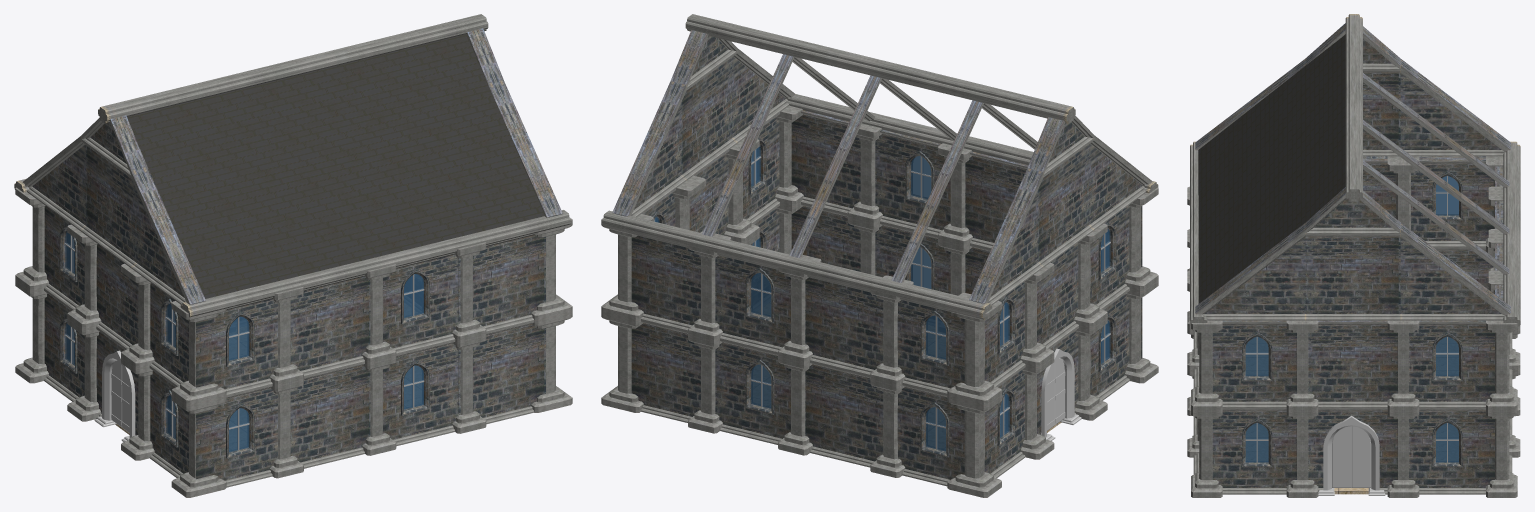
3 views of the same model, side by side, from view 1: azimuth 30°, elevation 25°; view 2: azimuth 150°, elevation 25°; view 3: azimuth 270°, elevation 25° (orthographic). The views are drawn at different scales.
Parts seen in each view (by area): view 1: Roof_Tile_(2), Wall_(2), Wall_(6), Rock_Moulding_(3), Wall_(4), Window_(5), Wall_(8), Window_(6), Window_(13), Rock_Moulding_(1), Window_(14), Roof_Triangle_Side_(2) (+33 smaller); view 2: Rock_Moulding_(3), Wall_(1), Rock_Moulding_(2), Wall_(5), Wall_(3), Window_(3), Wall_(7), Window_(11), Window_(14), Wall_(8), Window_(4), Roof_Triangle_Side_(1) (+58 smaller); view 3: Roof_Tile_(2), Wall_(12), Wall_(10), Window_(16), Window_(15), Window_(8), Window_(7), Roof_Triangle_Side_(3), Roof_Triangle_Side_(4), Roof_Triangle_Side_(1), Window_(9), Doorway.003 (+31 smaller).
Part boxes in pixels (box(x1,y1,x2,y2)): Roof_Tile_(2): box(127, 34, 544, 298); Wall_(2): box(290, 362, 370, 468); Wall_(6): box(290, 276, 370, 377); Rock_Moulding_(3): box(98, 14, 488, 123); Wall_(4): box(458, 321, 545, 424); Window_(5): box(196, 385, 277, 487); Wall_(8): box(458, 235, 545, 332); Window_(6): box(383, 340, 458, 446); Window_(13): box(196, 298, 277, 395); Rock_Moulding_(1): box(180, 210, 570, 317); Window_(14): box(383, 254, 458, 354); Roof_Triangle_Side_(2): box(131, 169, 205, 304); Rock_Moulding_(3): box(685, 14, 1075, 123); Wall_(1): box(805, 361, 883, 467); Rock_Moulding_(2): box(602, 210, 992, 320); Wall_(5): box(805, 277, 883, 375); Wall_(3): box(631, 320, 716, 422); Window_(3): box(716, 339, 790, 444); Wall_(7): box(631, 235, 716, 331); Window_(11): box(716, 255, 790, 353); Window_(14): box(876, 129, 950, 236); Wall_(8): box(791, 110, 876, 214); Window_(4): box(897, 384, 964, 486); Roof_Triangle_Side_(1): box(969, 168, 1043, 305); Roof_Tile_(2): box(1198, 34, 1345, 303); Wall_(12): box(1305, 234, 1400, 320); Wall_(10): box(1308, 320, 1397, 408); Window_(16): box(1409, 320, 1494, 408); Window_(15): box(1212, 320, 1296, 408); Window_(8): box(1409, 408, 1494, 494); Window_(7): box(1212, 408, 1296, 494); Roof_Triangle_Side_(3): box(1400, 223, 1510, 320); Roof_Triangle_Side_(4): box(1195, 223, 1305, 320); Roof_Triangle_Side_(1): box(1400, 59, 1510, 156); Window_(9): box(1411, 156, 1493, 247); Doorway.003: box(1308, 408, 1397, 494).
Bounding box in the file's own units: 13.25 × 10.76 × 10.5.
